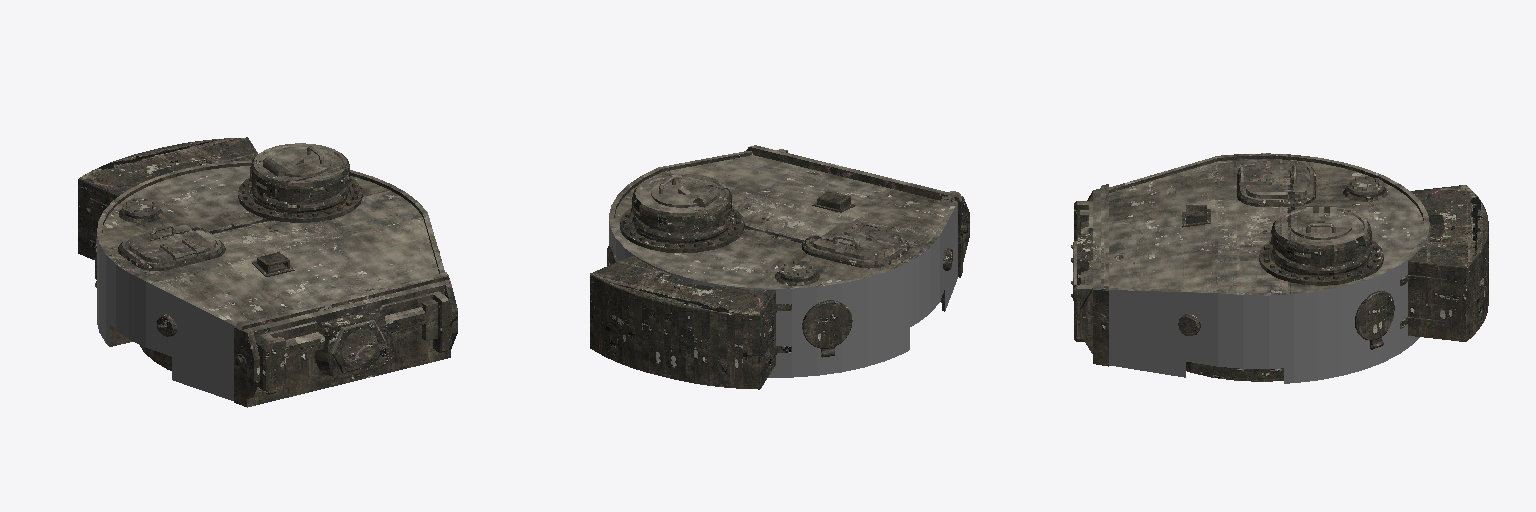
3 views of the same model, side by side, from view 1: azimuth 30°, elevation 25°; view 2: azimuth 150°, elevation 25°; view 3: azimuth 270°, elevation 25° (orthographic).
Parts seen in each view (by area): view 1: obj1; view 2: obj1; view 3: obj1.
Part boxes in pixels (bbox=[...]): obj1: bbox=[78, 137, 457, 407]; obj1: bbox=[590, 145, 969, 389]; obj1: bbox=[1071, 153, 1488, 383].
Size of the model in its own units: 3.8 by 1.78 by 4.71.
Materials: 3 (2 with a texture image).